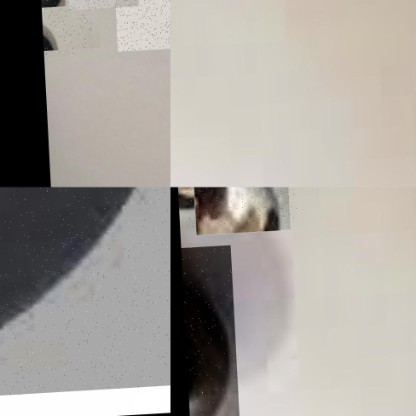ironball: (0, 187, 170, 404), (179, 245, 239, 415), (182, 187, 296, 228), (40, 0, 92, 57), (113, 0, 170, 52), (66, 0, 138, 10)
